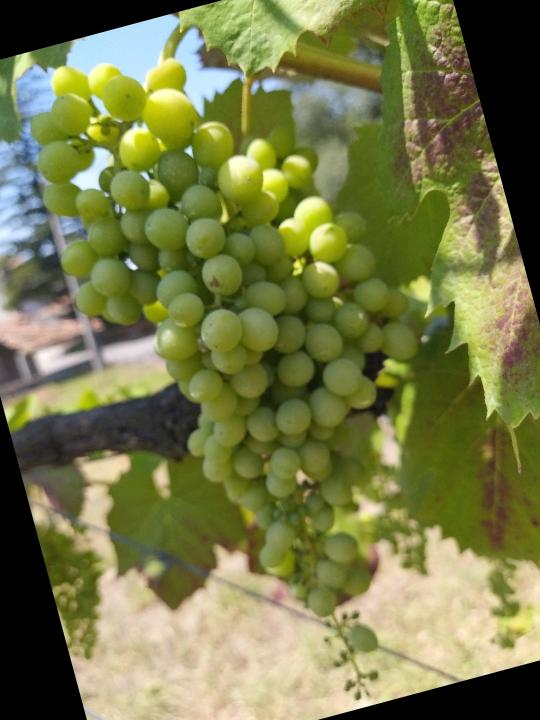grape: (7, 0, 508, 720)
